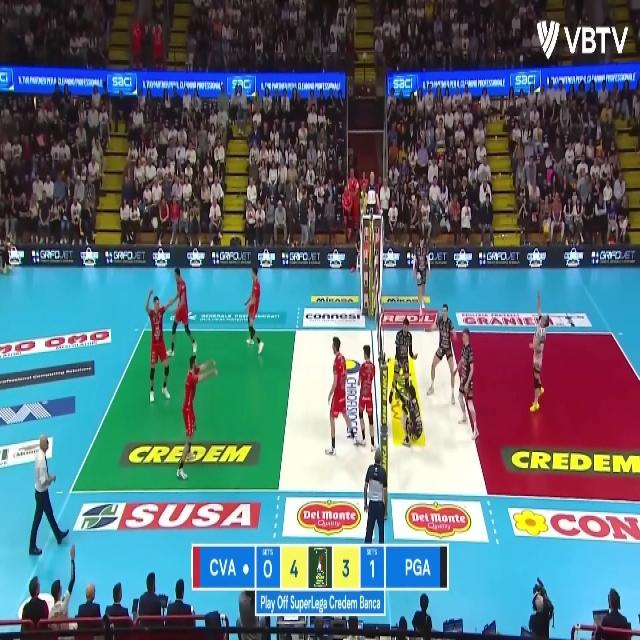volleyball court: (68, 327, 639, 501)
